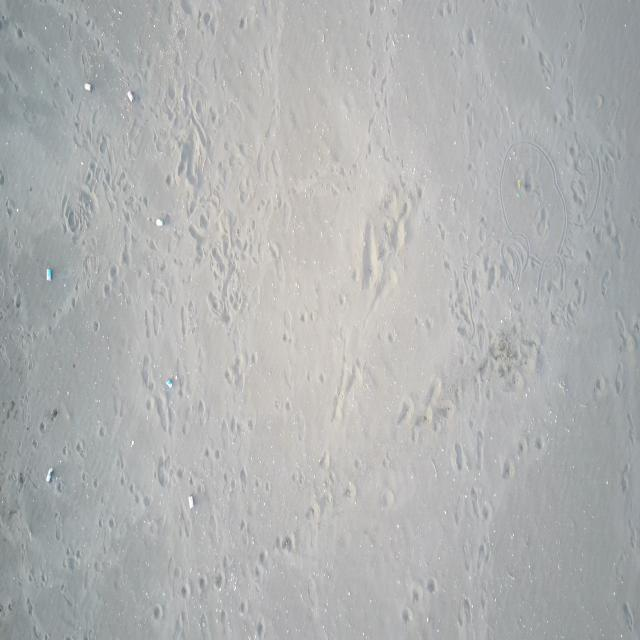Garbage: (45, 467, 52, 482), (127, 89, 134, 101), (164, 377, 172, 387), (45, 267, 51, 280), (84, 81, 91, 91), (187, 495, 192, 507), (156, 218, 163, 226)
